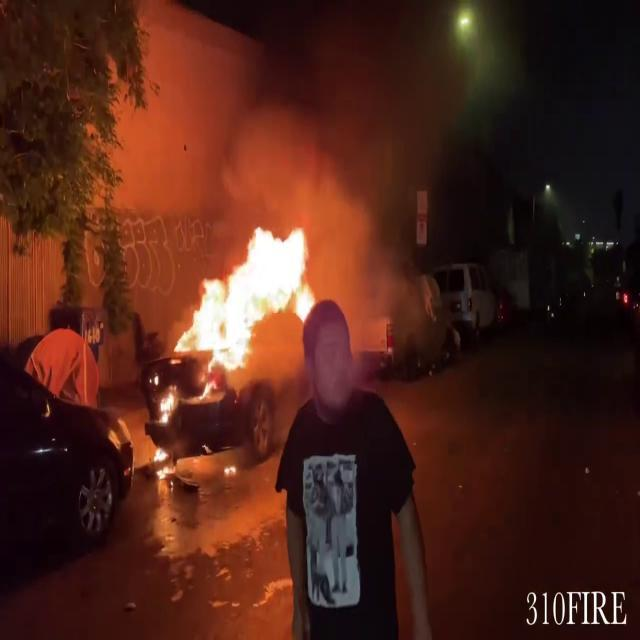Fire: (154, 208, 330, 396)
Smoke: (80, 1, 450, 276)
